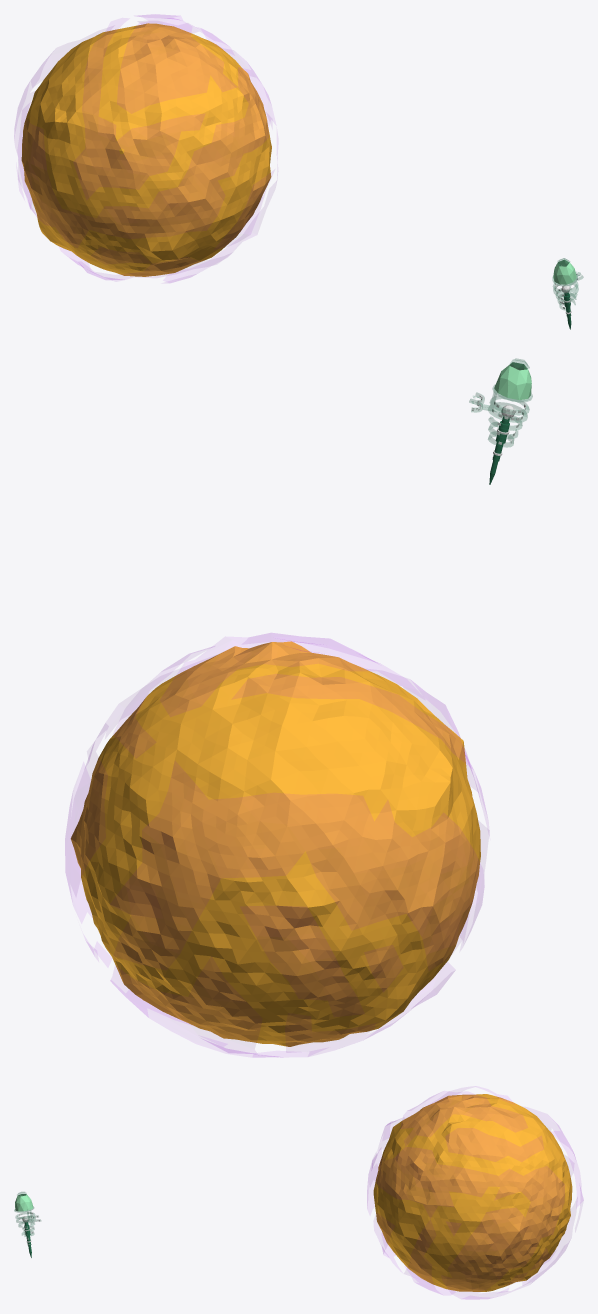
File: OceanOnyxStationMini.fbx
The picture shows the model from 3 angles, top to bottom: view 1: azimuth 30°, elevation 25°; view 2: azimuth 150°, elevation 25°; view 3: azimuth 270°, elevation 25°; orthographic projection. The views are drawn at different scales.
Visible parts, largest first — view 1: planet, atmosphere, Icosphere.003; view 2: planet, atmosphere, Icosphere.003; view 3: planet, atmosphere.
Boxes of the visible parts, bbox=[...] form: planet: bbox=[21, 23, 271, 276]; atmosphere: bbox=[14, 15, 272, 282]; Icosphere.003: bbox=[553, 259, 576, 284]; planet: bbox=[70, 641, 480, 1046]; atmosphere: bbox=[65, 633, 488, 1056]; Icosphere.003: bbox=[494, 362, 531, 399]; planet: bbox=[373, 1094, 572, 1291]; atmosphere: bbox=[367, 1092, 583, 1298].
Bounding box in the file's own units: 45.35 × 38.56 × 102.
